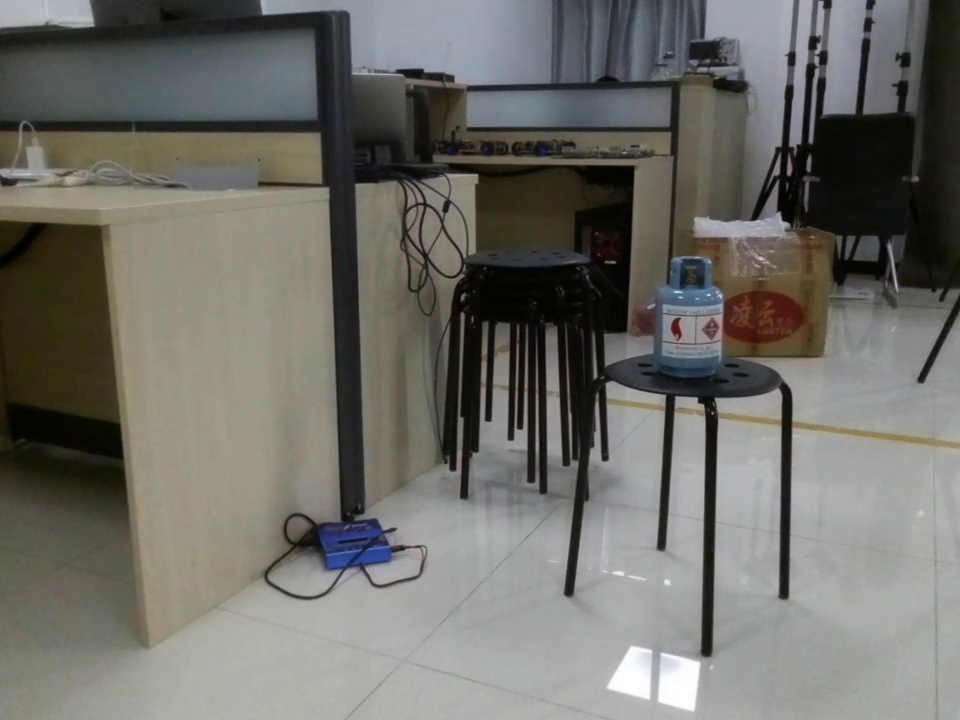gas tank: (647, 252, 733, 377)
